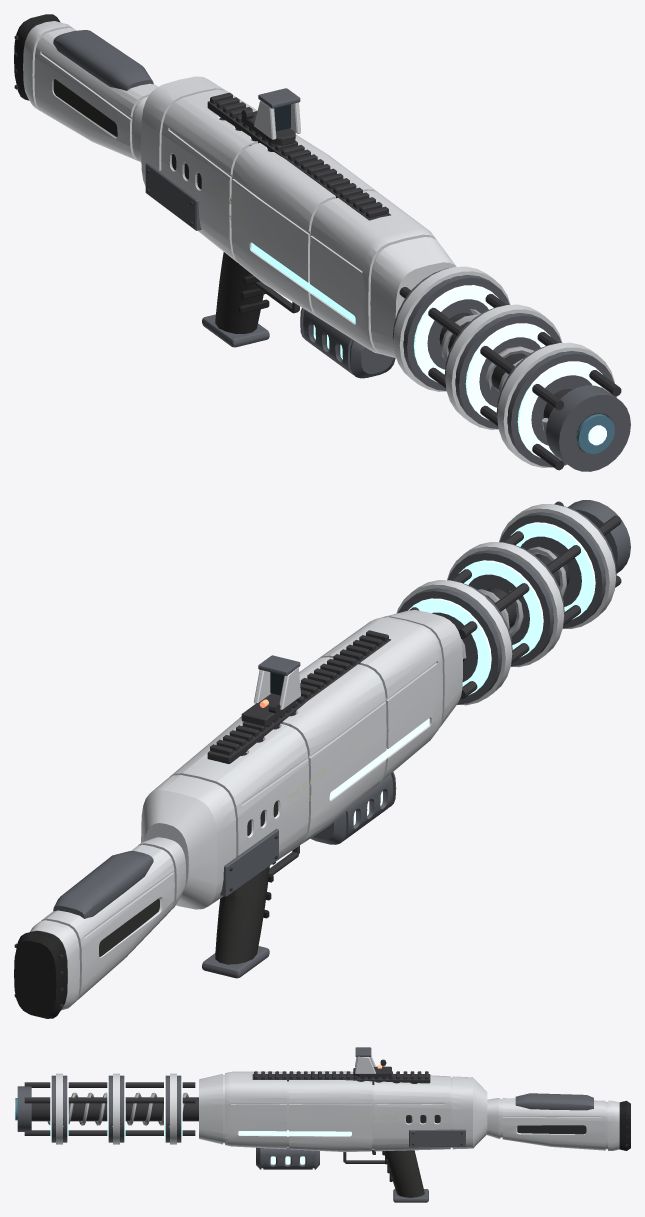
Rendered from magblaster.glb.
3 views of the same model, one above another, from view 1: azimuth 30°, elevation 25°; view 2: azimuth 150°, elevation 25°; view 3: azimuth 270°, elevation 25° (orthographic). The views are drawn at different scales.
Parts seen in each view (by area): view 1: Body; view 2: Body; view 3: Body.
Part boxes in pixels (box(x1,y1,x2,y2)): Body: box(14, 14, 630, 471); Body: box(14, 500, 630, 1018); Body: box(14, 1047, 630, 1202).
Bounding box in the file's own units: 0.1 × 0.2284 × 0.867.
